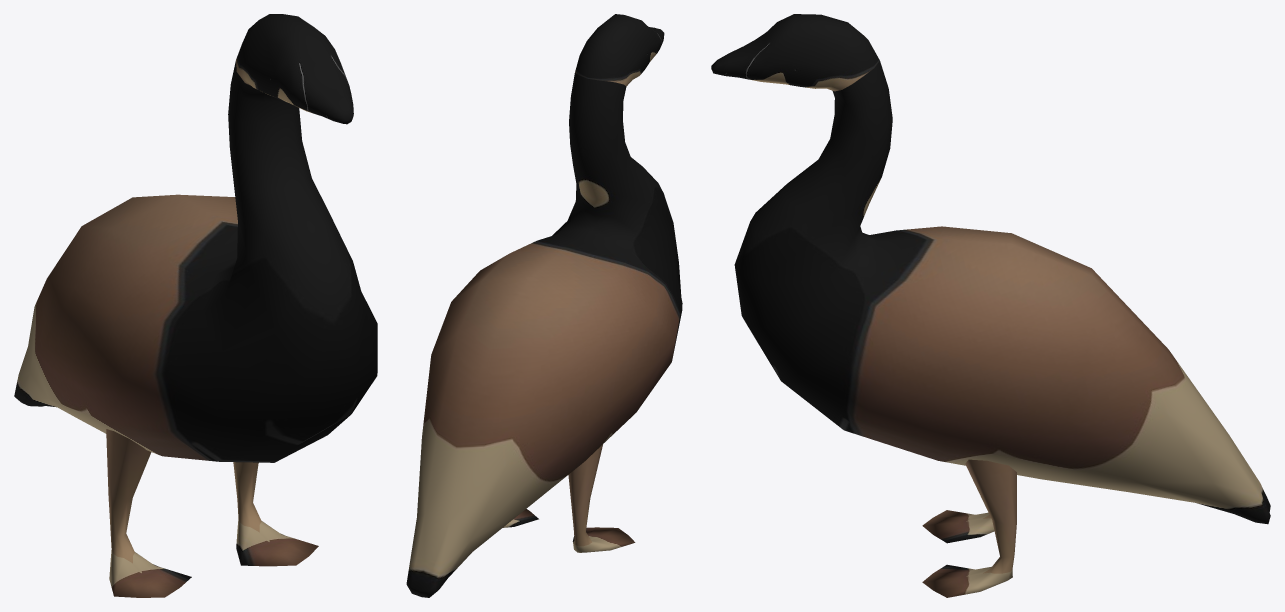
Rendered from goose.gltf.
The picture shows the model from 3 angles, left to right: view 1: azimuth 30°, elevation 25°; view 2: azimuth 150°, elevation 25°; view 3: azimuth 270°, elevation 25°; orthographic projection. The views are drawn at different scales.
Size of the model in its own units: 1.8 by 4.28 by 4.05.
Materials: 1 (1 with a texture image).
